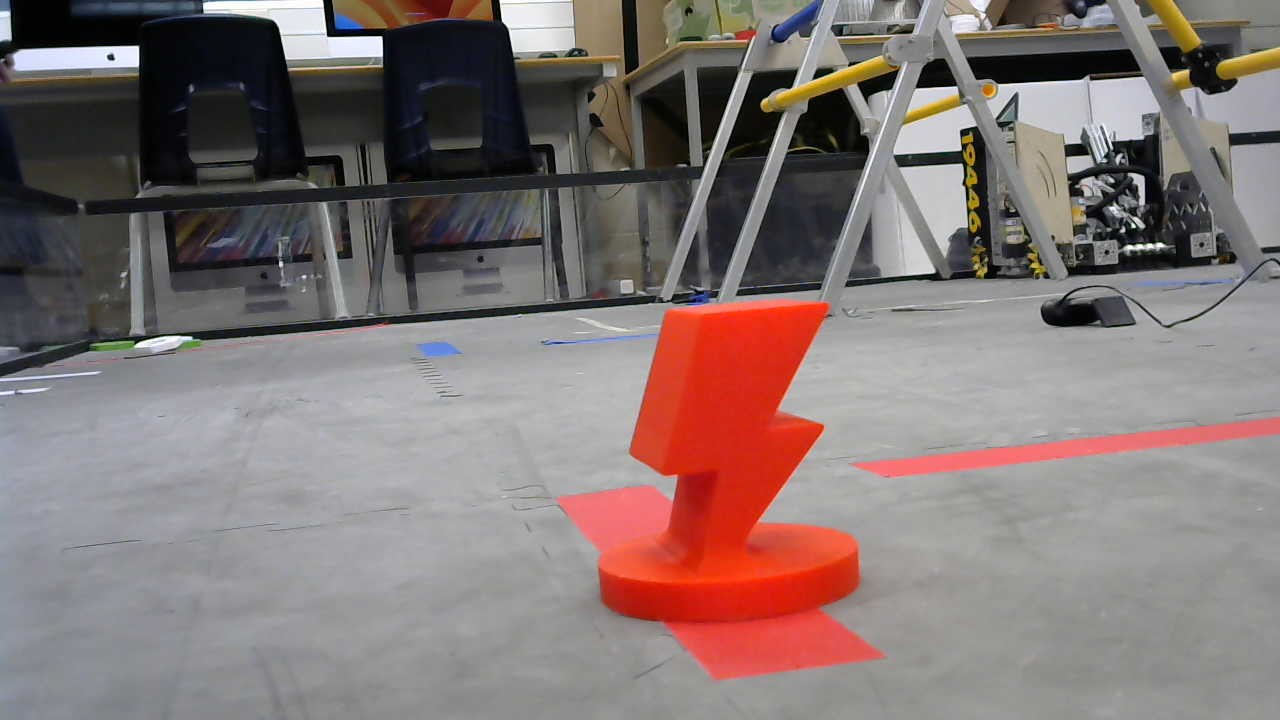redobject: (597, 298, 864, 625)
